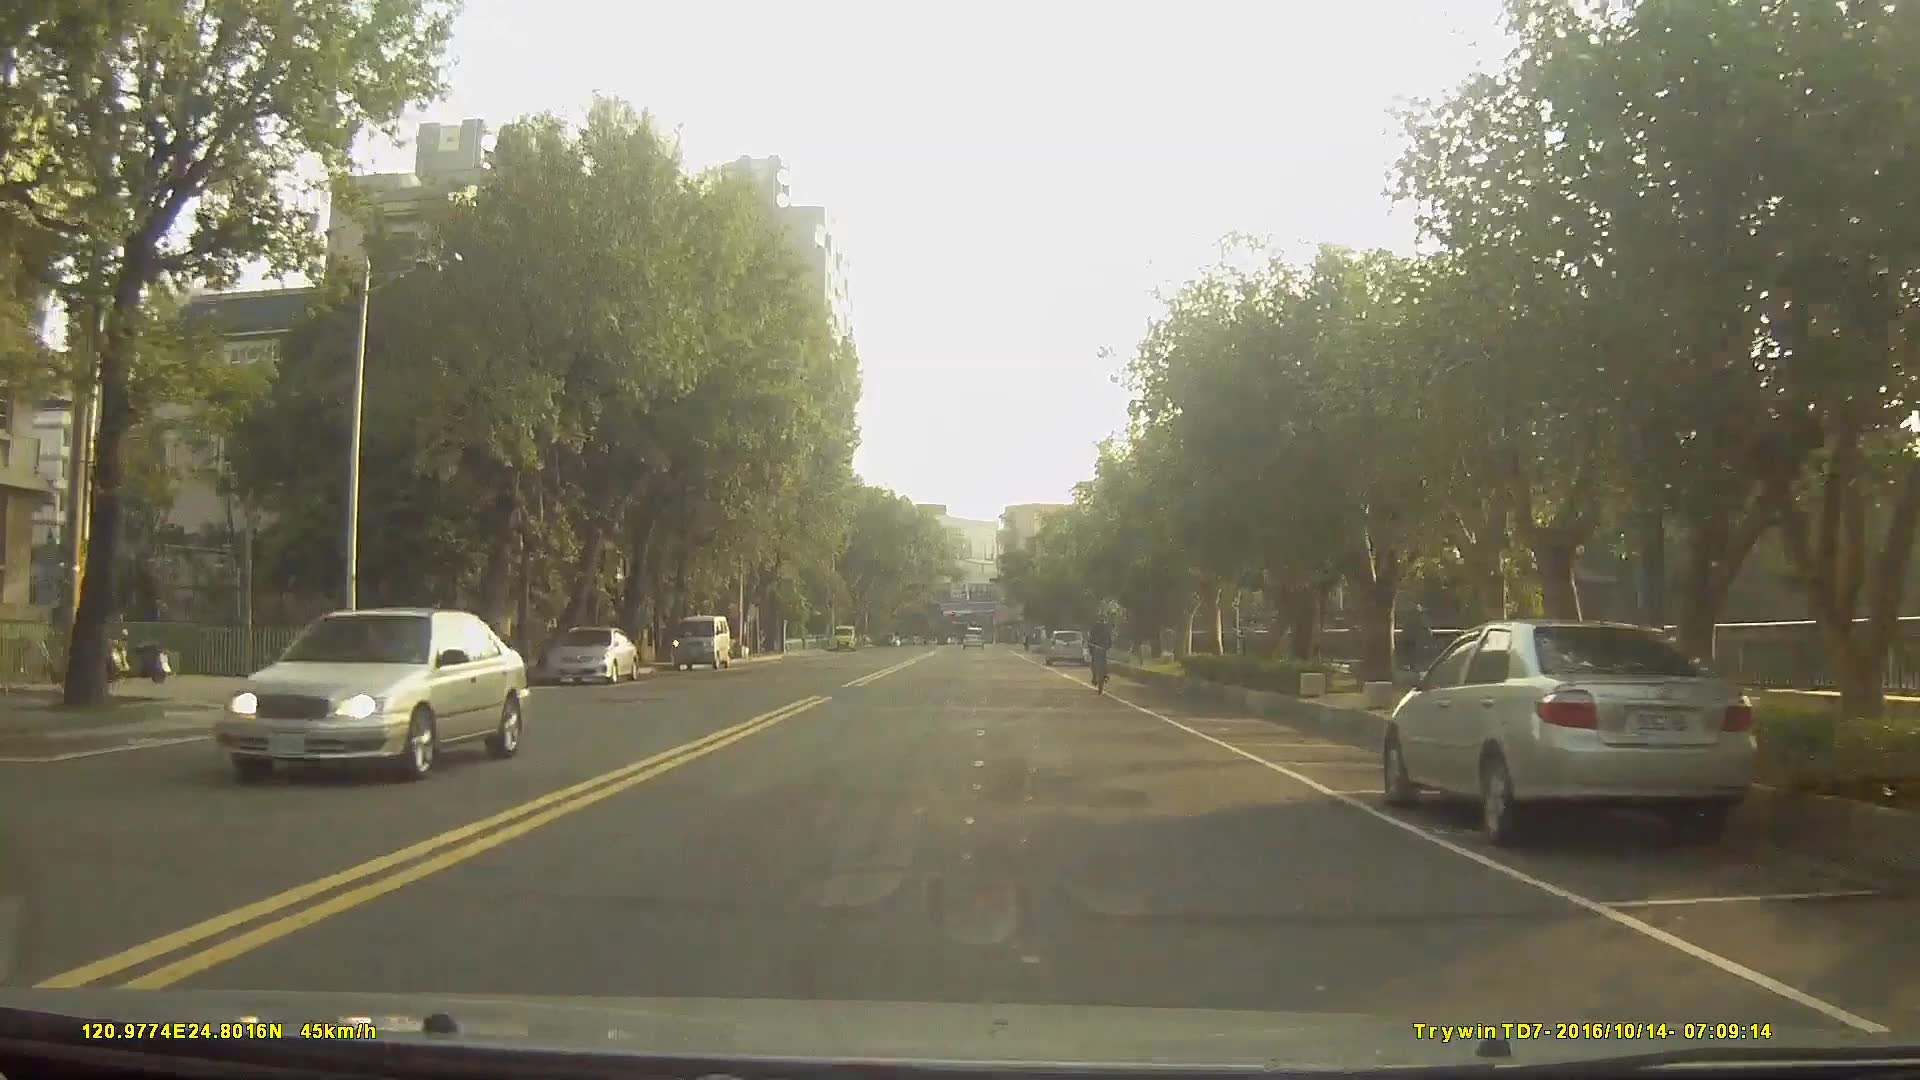rider: (1088, 616, 1116, 700)
vehicle: (1381, 618, 1761, 849), (208, 604, 531, 780), (545, 623, 637, 687), (670, 615, 732, 673), (1043, 627, 1087, 666), (961, 622, 986, 648)
